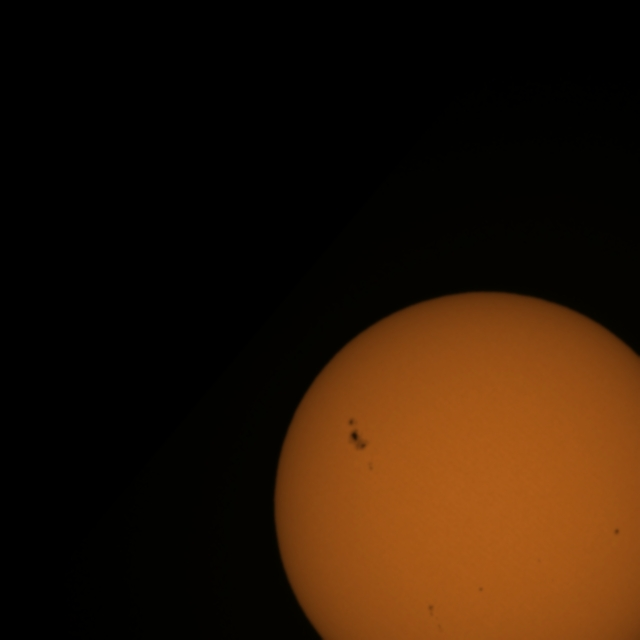sunspot: (346, 416, 370, 452), (426, 601, 444, 636), (426, 602, 437, 618), (366, 460, 374, 473), (612, 527, 620, 537), (536, 557, 542, 565), (478, 586, 484, 594)
